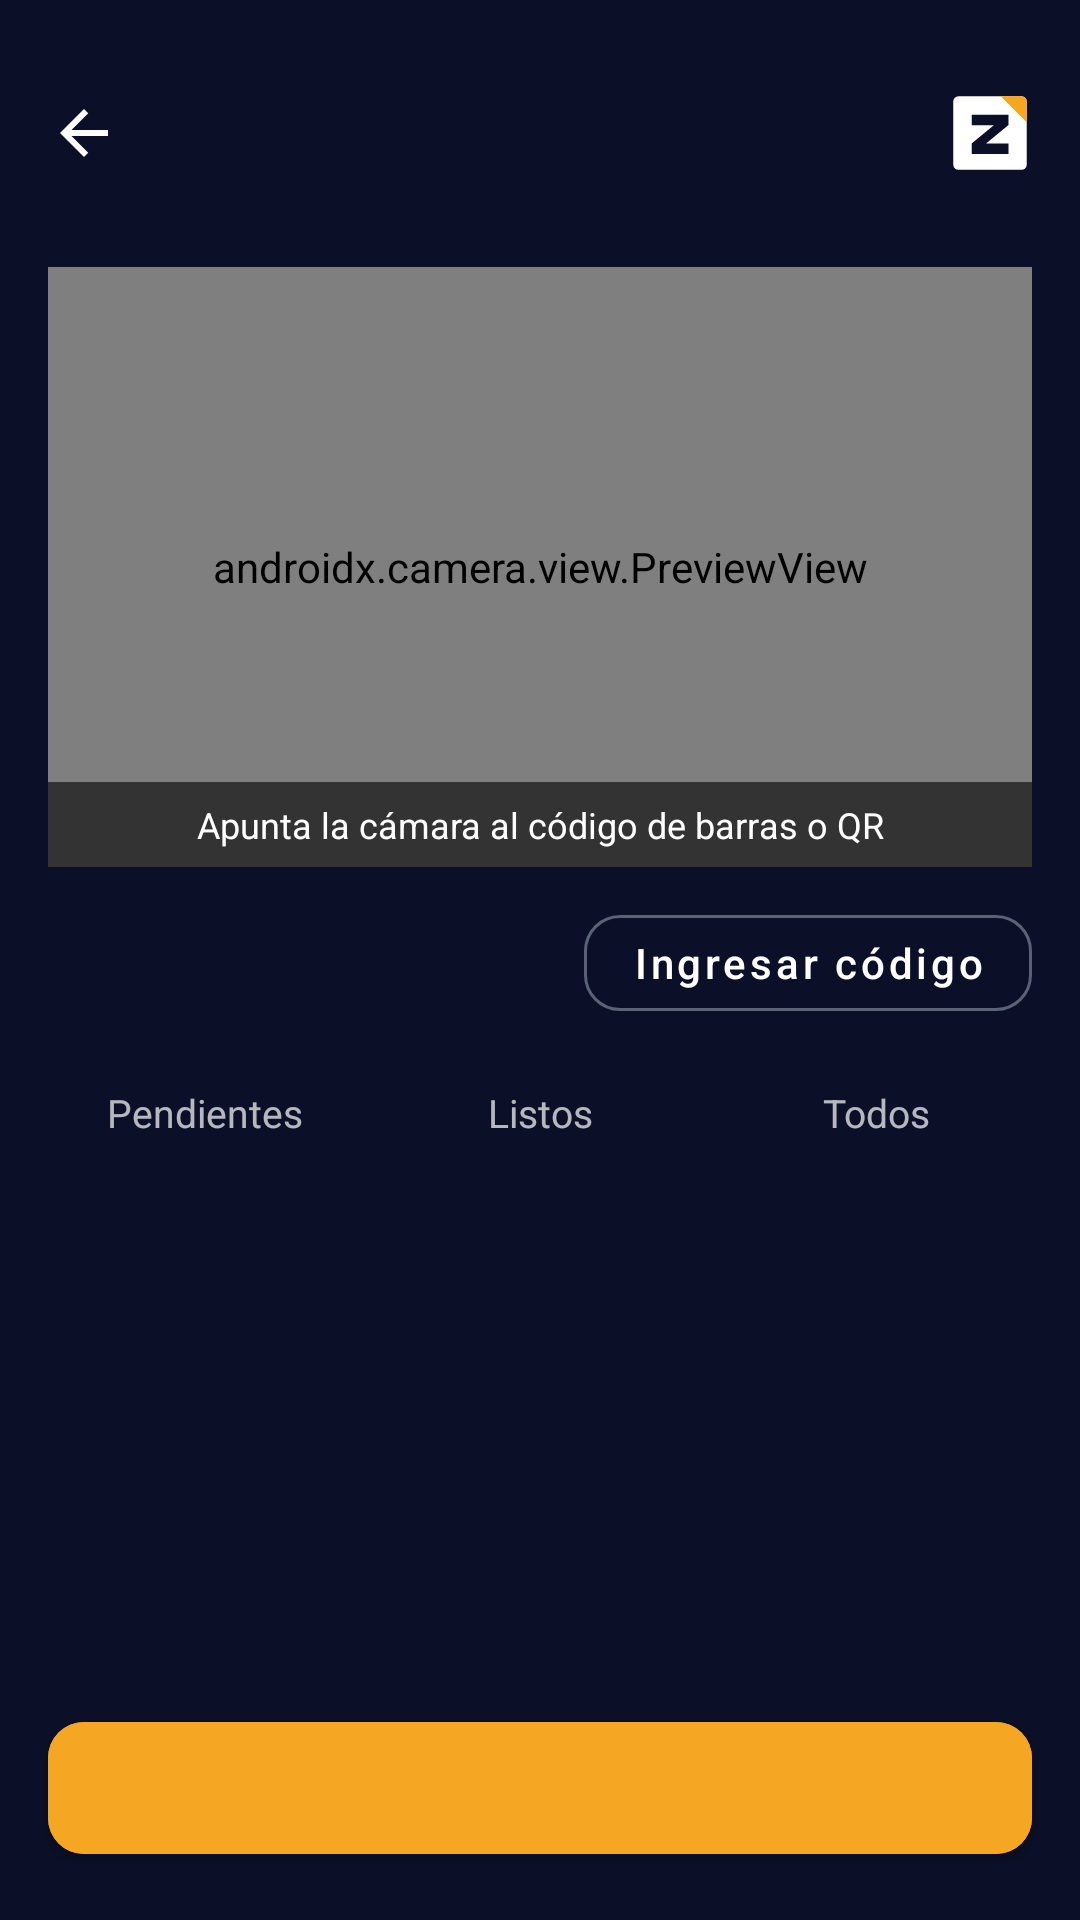

Named icons in this screenshot (1080 × 1920) and their bounding boxes, (x1, y1, x2, y2):
Volver: (60, 109, 108, 157)
